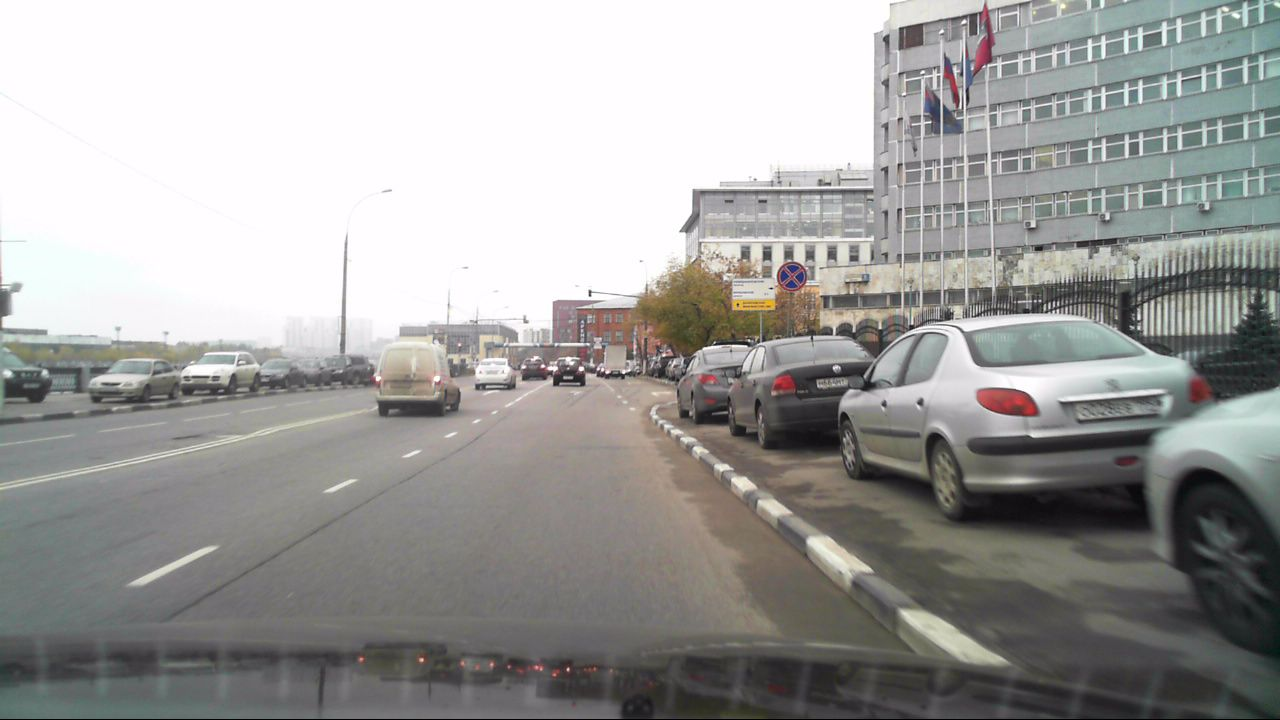No Parking: (775, 261, 805, 291)
